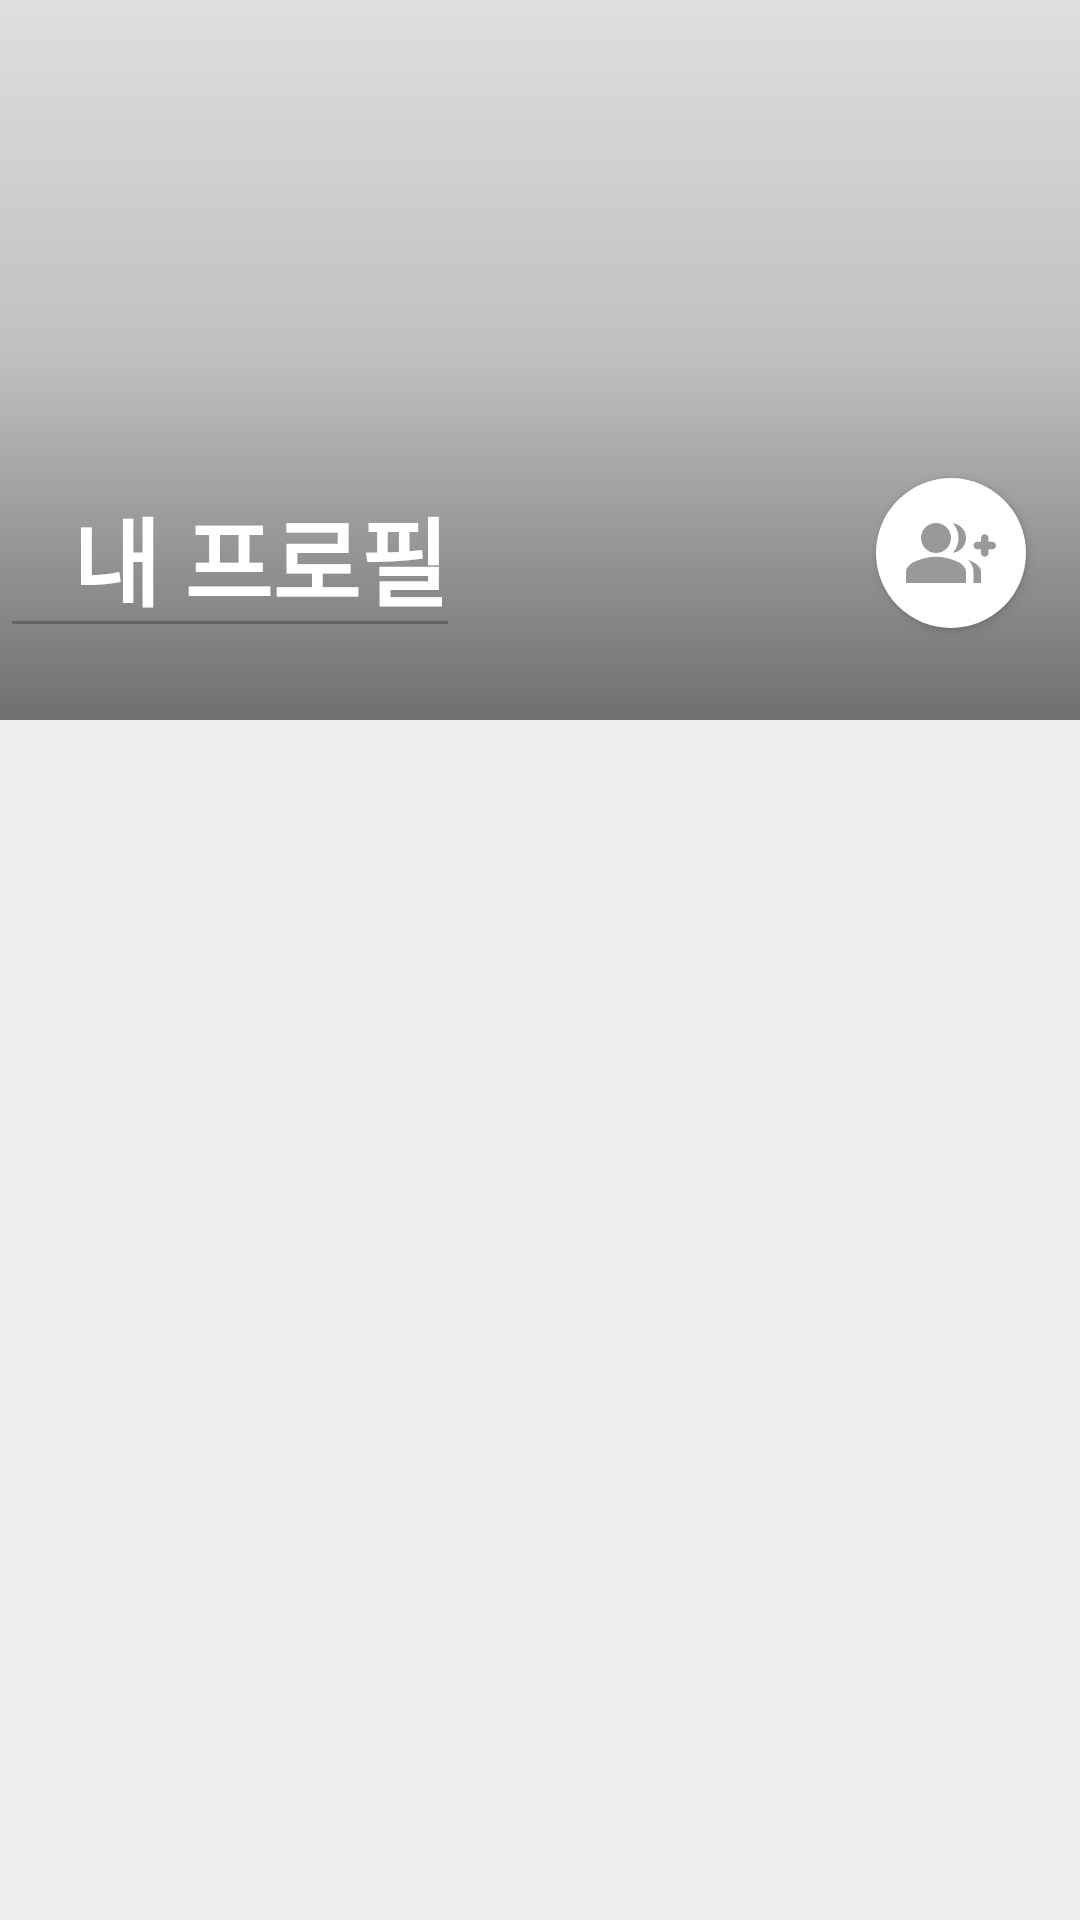

Icon click points for this 1080*1920 phone screenshot, format [x,y]:
add contract: [951,553]
